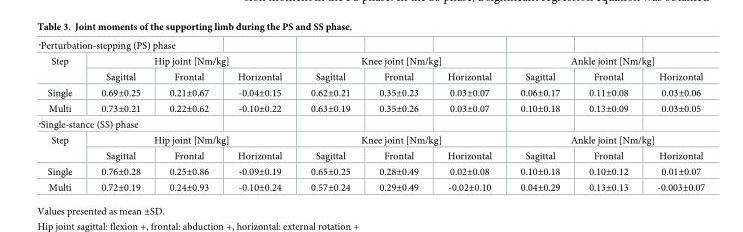table: (36, 37, 704, 193)
table column: (222, 37, 295, 193), (432, 37, 505, 193), (85, 37, 154, 193), (295, 37, 364, 193), (573, 37, 642, 193), (154, 37, 222, 193), (364, 37, 432, 193), (505, 37, 573, 193), (642, 37, 704, 193), (36, 37, 85, 193)
table projected row header: (36, 115, 704, 132), (36, 37, 704, 53)
table row: (36, 83, 704, 100), (36, 115, 704, 132), (36, 162, 704, 179), (36, 37, 704, 53), (36, 53, 704, 68), (36, 68, 704, 83), (36, 100, 704, 115), (36, 132, 704, 147), (36, 147, 704, 162), (36, 179, 704, 193)
table spanning cell: (85, 53, 295, 68), (295, 53, 505, 68), (85, 132, 295, 147), (295, 132, 505, 147), (505, 53, 704, 68), (505, 132, 704, 147), (36, 53, 85, 83), (36, 132, 85, 162)
